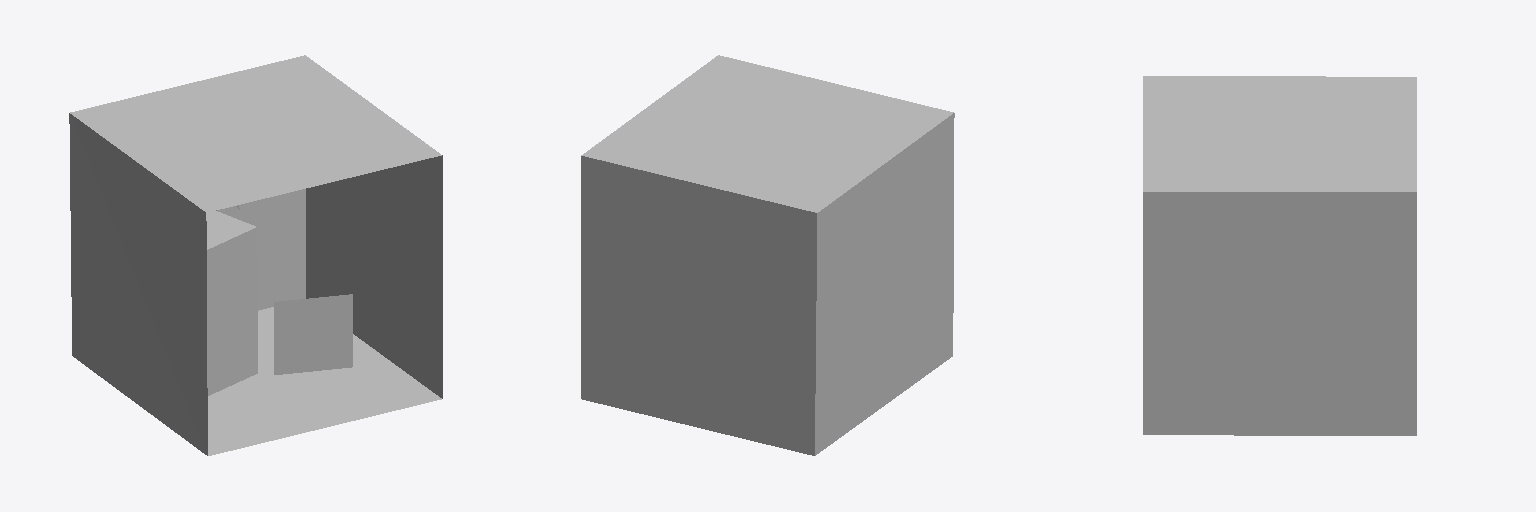
3 views of the same model, side by side, from view 1: azimuth 30°, elevation 25°; view 2: azimuth 150°, elevation 25°; view 3: azimuth 270°, elevation 25° (orthographic).
Parts seen in each view (by area): view 1: left_wall, ceiling, right_wall, floor, tall_box, short_box, back_wall; view 2: back_wall, left_wall, ceiling; view 3: right_wall, ceiling.
Boxes of the visible parts, x1,y1,x2,y2 form: left_wall: [69, 113, 207, 455]; ceiling: [70, 55, 441, 212]; right_wall: [306, 155, 442, 398]; floor: [208, 307, 441, 455]; tall_box: [206, 211, 257, 395]; short_box: [274, 294, 352, 374]; back_wall: [229, 189, 305, 310]; back_wall: [581, 156, 816, 455]; left_wall: [815, 113, 954, 455]; ceiling: [581, 55, 953, 212]; right_wall: [1143, 192, 1416, 435]; ceiling: [1143, 76, 1416, 191].
Size of the model in its own units: 5.56 by 5.49 by 5.6.